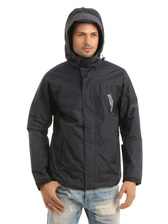clothoes: (24, 4, 149, 191)
